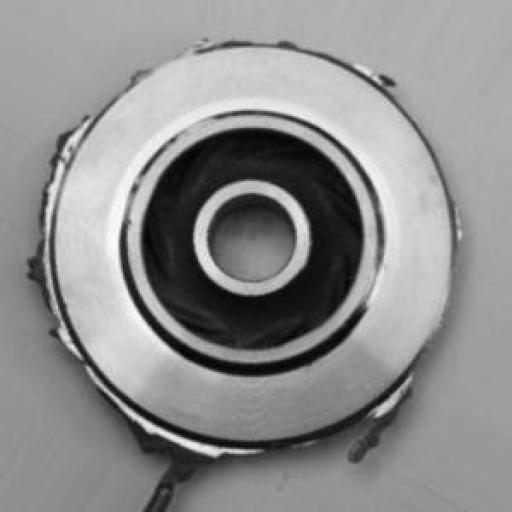defect: (21, 25, 480, 509)
